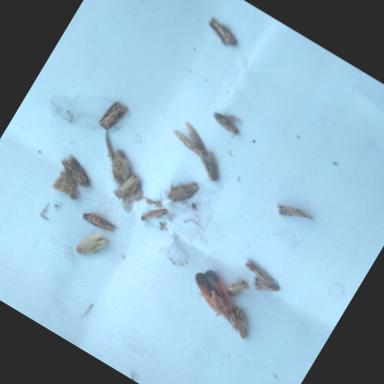pbw: (169, 120, 216, 161), (51, 151, 98, 190), (97, 145, 138, 188), (162, 173, 200, 211), (188, 147, 228, 183), (272, 197, 314, 231), (73, 226, 110, 264), (95, 98, 131, 137), (222, 306, 260, 342), (202, 16, 242, 50), (207, 105, 244, 138), (109, 168, 142, 205), (80, 208, 117, 237), (248, 270, 282, 300), (242, 260, 276, 286), (138, 201, 166, 230), (224, 274, 251, 302)
